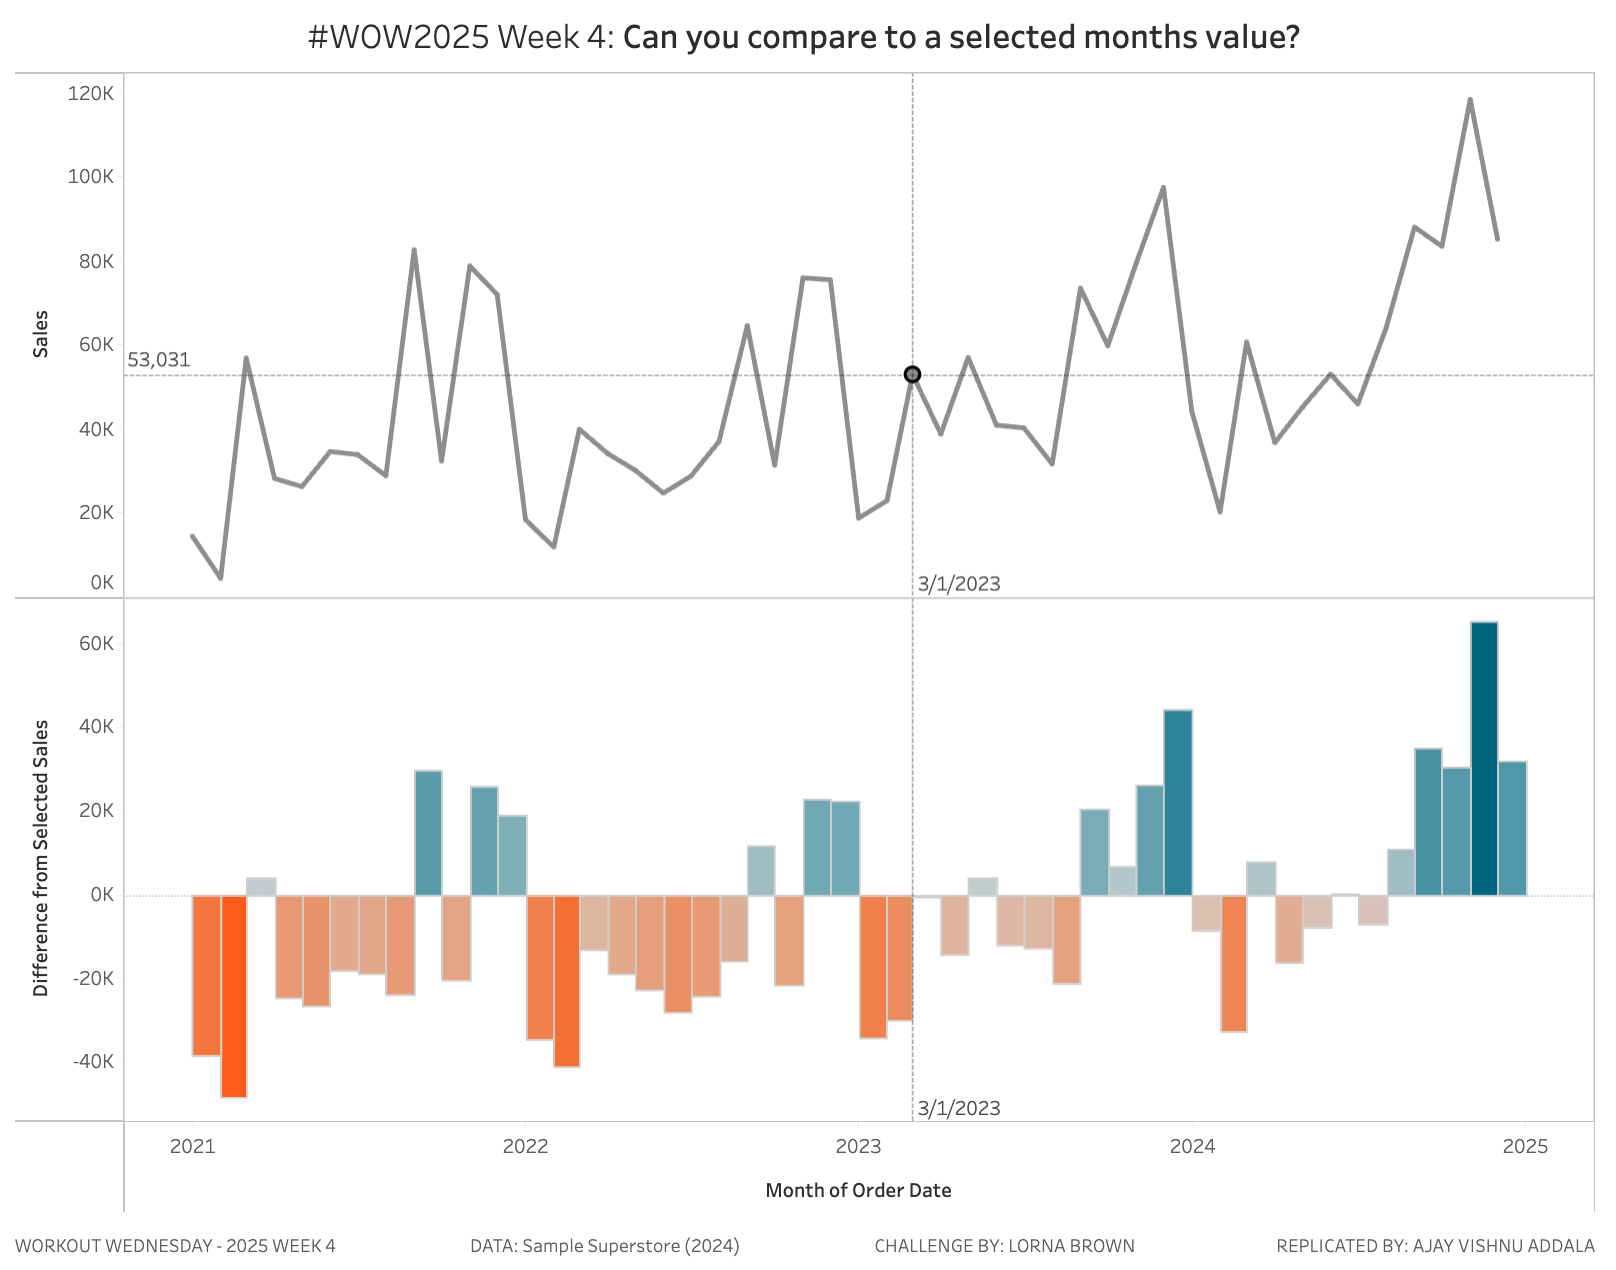

This screenshot's page, from the dashboard's own definition file:
{"tool":"tableau","page":{"name":"WOW2025-W4","canvas":[1000,800],"ordinal":0},"visuals":[{"type":"worksheet","title":"Viz","mark":"Automatic","rows":["Sales","Calculation_227783664212287488"],"cols":["Order Date"],"box":[2,2,996,764]},{"type":"text","box":[2,766,248,32]},{"type":"text","box":[250,766,250,32]},{"type":"text","box":[500,766,250,32]},{"type":"text","box":[750,766,248,32]}]}

Visuals, with their boxes in screenshot pixels (x1, y1, x2, y2), scaled from the page's 1000x800 canvas onto the 1616x1270 screenshot:
"Viz" worksheet: box(3, 3, 1613, 1216)
text: box(3, 1216, 404, 1267)
text: box(404, 1216, 808, 1267)
text: box(808, 1216, 1212, 1267)
text: box(1212, 1216, 1613, 1267)
